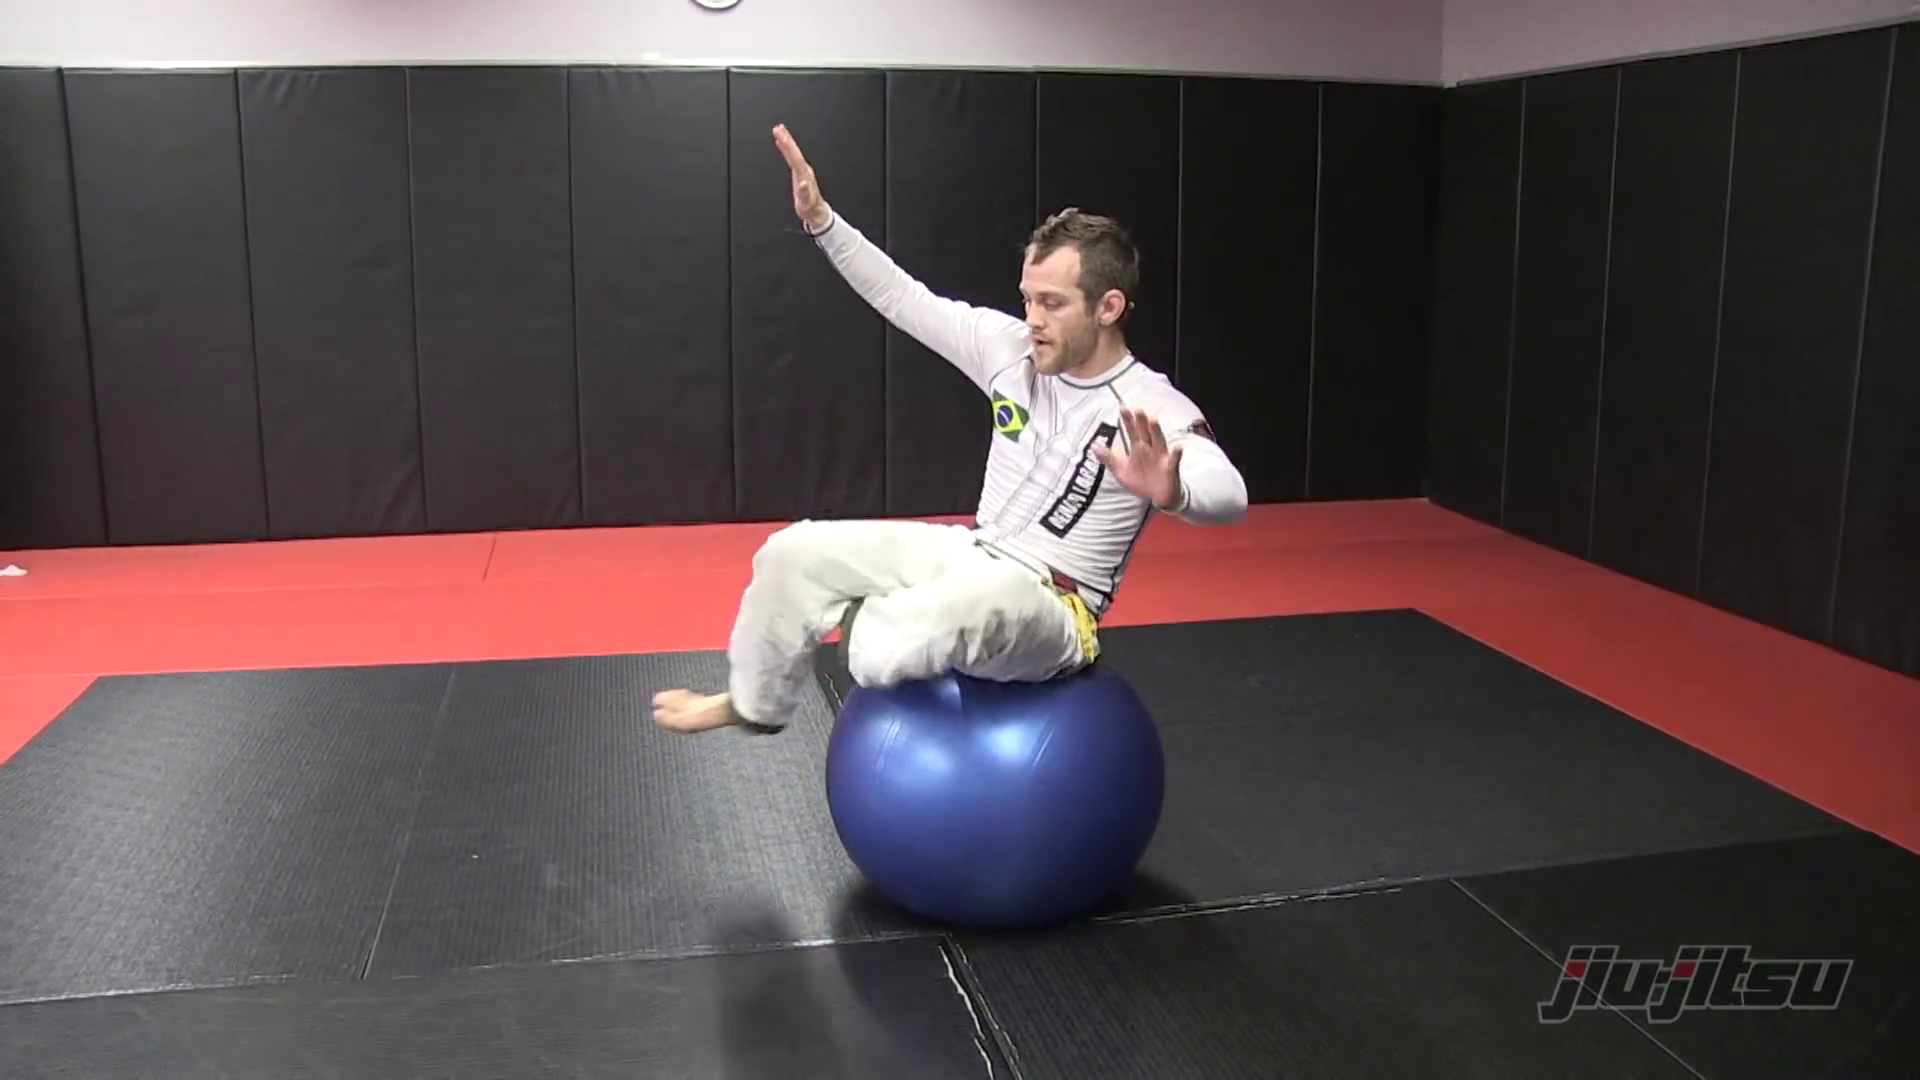yogaball: (806, 630, 1192, 957)
